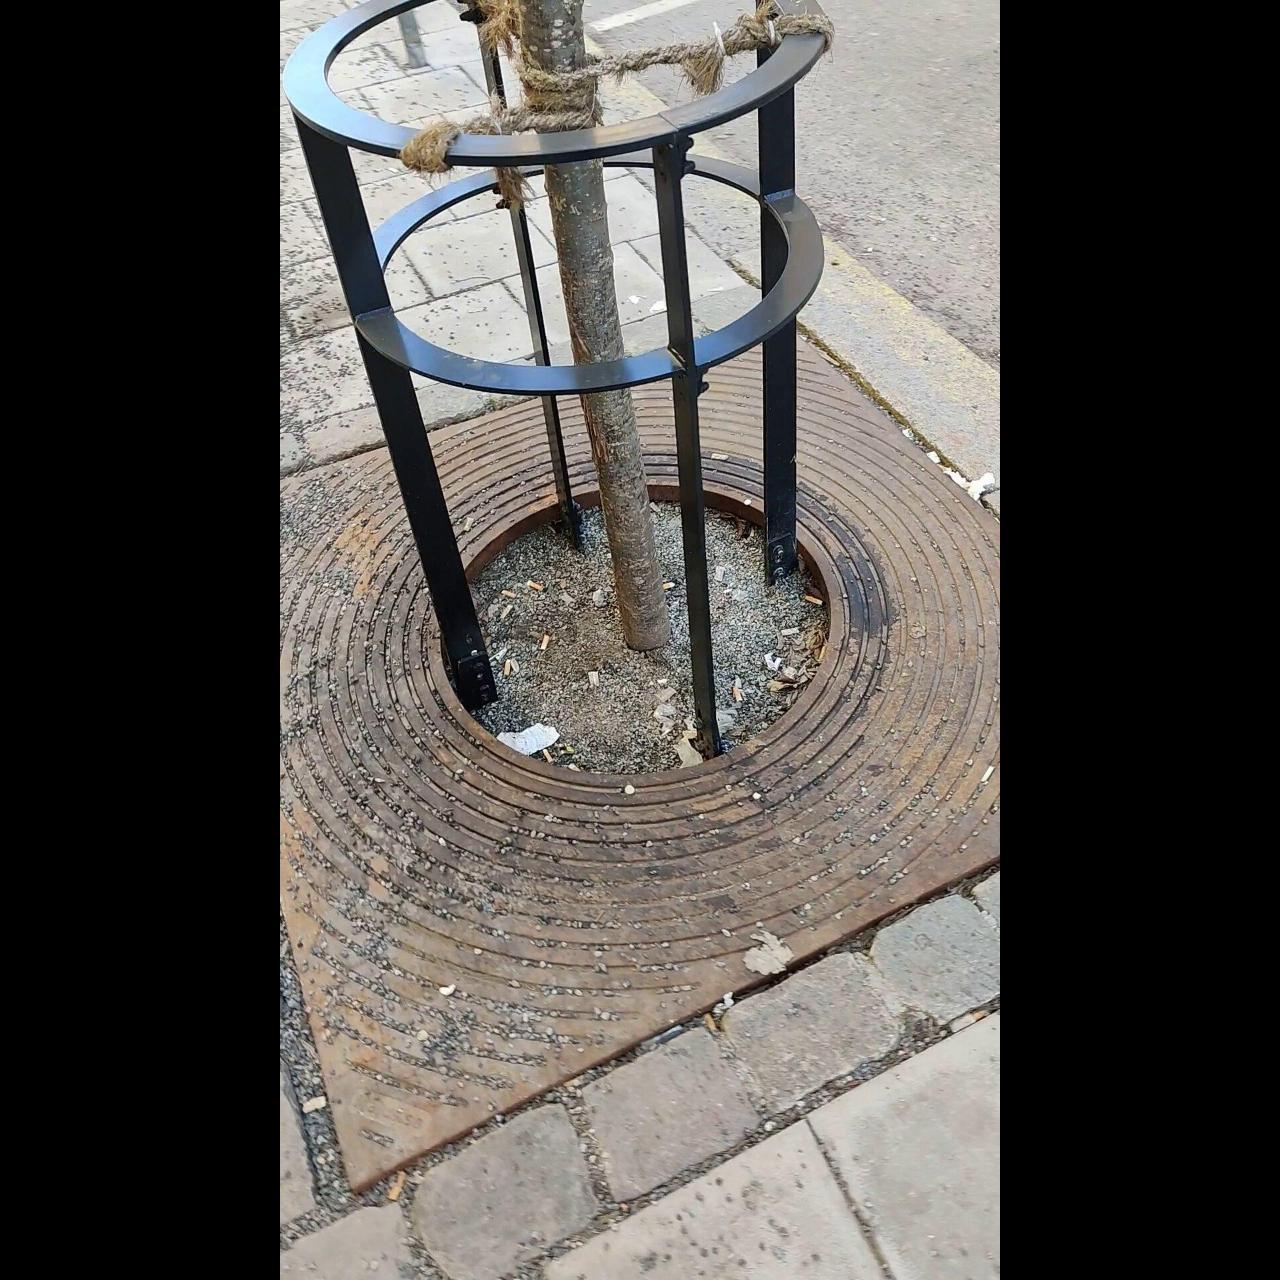cigarettes_butts: (704, 1009, 722, 1033), (781, 626, 803, 636), (526, 579, 544, 591), (733, 686, 743, 702), (542, 747, 552, 763), (540, 634, 551, 651), (498, 588, 516, 598), (805, 595, 823, 605), (663, 580, 675, 590), (504, 659, 510, 673)
others: (464, 519, 474, 532)
